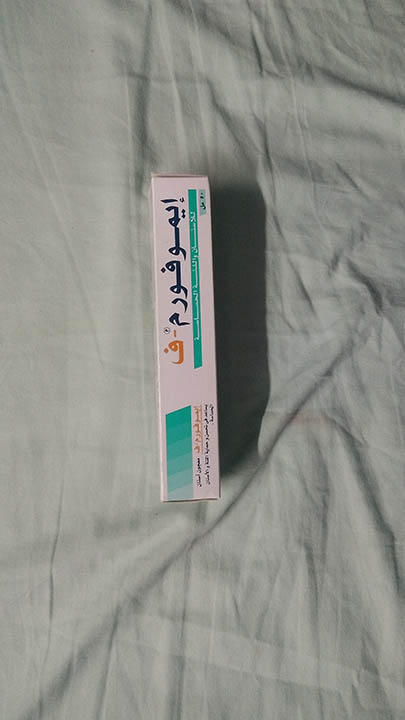Toothpaste-F 1.5$: (132, 165, 233, 510)
